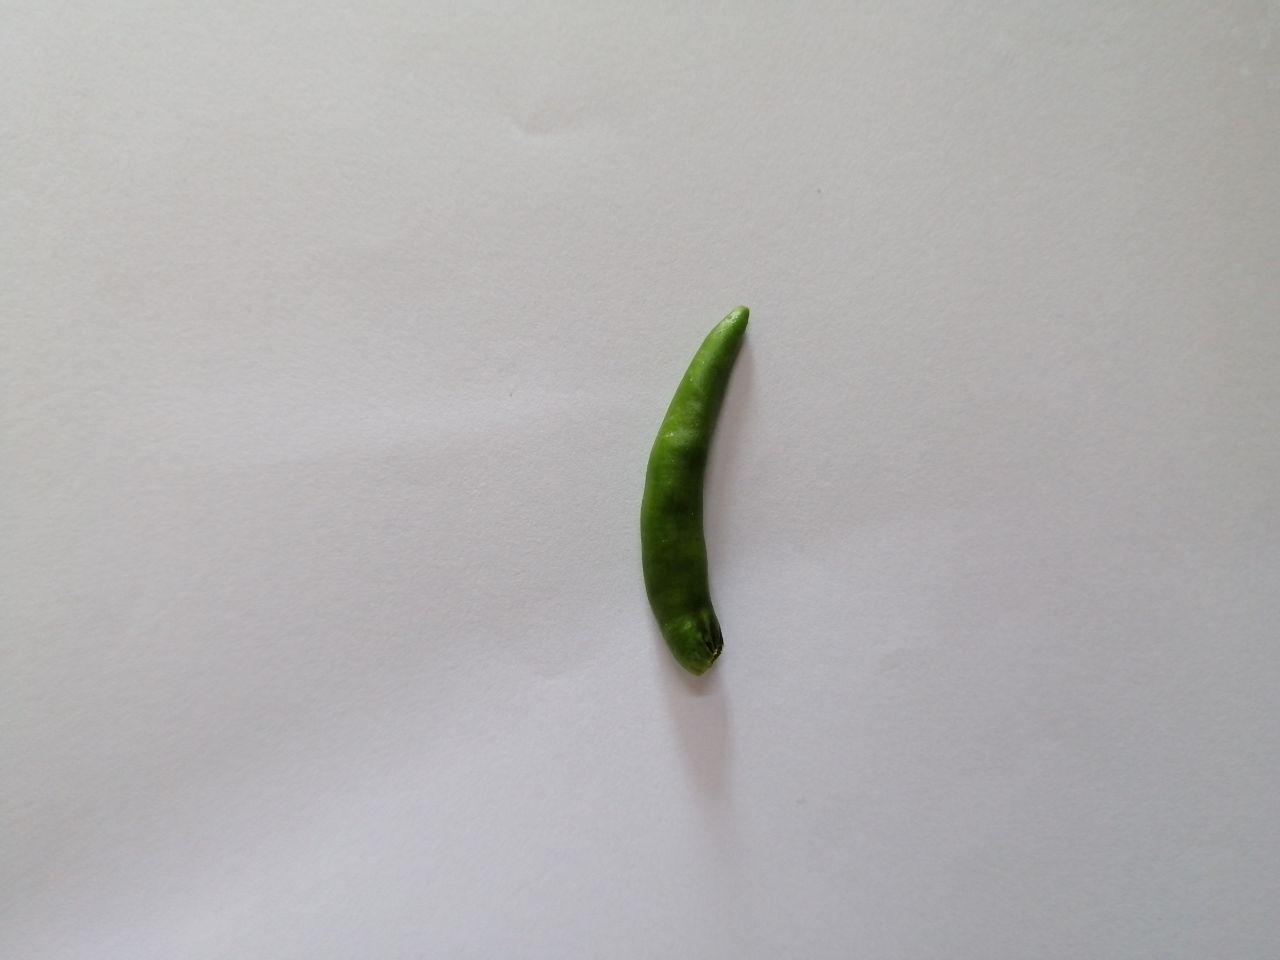lada hijau: (621, 283, 774, 689)
